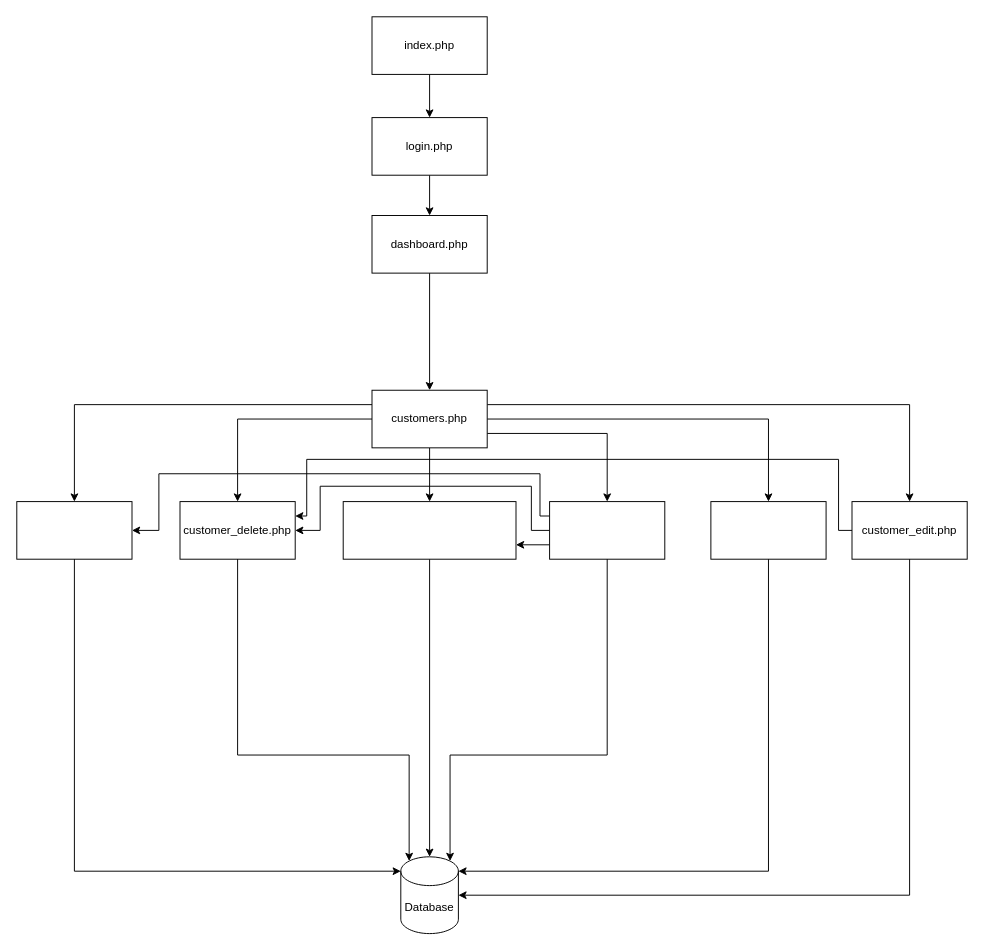
This 984x950 diagram has some shape labels left out. Here are the shapes that lost their labels. From the top down, the centre of each, then its label:
pixel 74 530: customer_deposit.php
pixel 429 530: customer_transfer_history.php
pixel 607 530: customer_profile.php
pixel 768 530: customer_create.php
